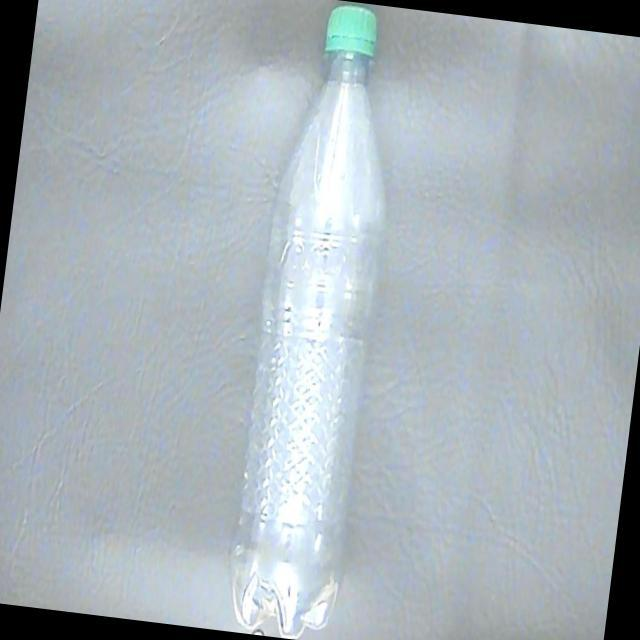good: (212, 2, 412, 640)
